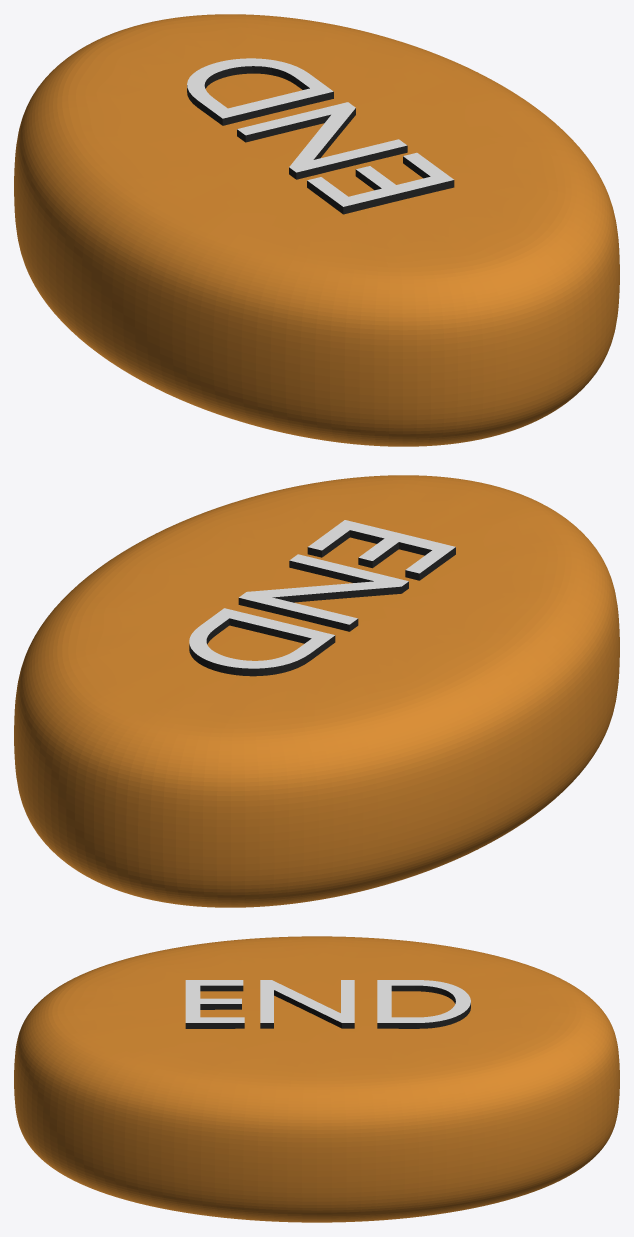
Rendered from end_button.fbx.
The picture shows the model from 3 angles, top to bottom: view 1: azimuth 30°, elevation 25°; view 2: azimuth 150°, elevation 25°; view 3: azimuth 270°, elevation 25°; orthographic projection. The views are drawn at different scales.
Visible parts, largest first — view 1: Cube; view 2: Cube; view 3: Cube.
Boxes of the visible parts, <box> form: Cube: <box>14,14,619,446</box>; Cube: <box>14,475,619,907</box>; Cube: <box>14,936,619,1222</box>.
Bounding box in the file's own units: 195 × 273 × 74.52.
